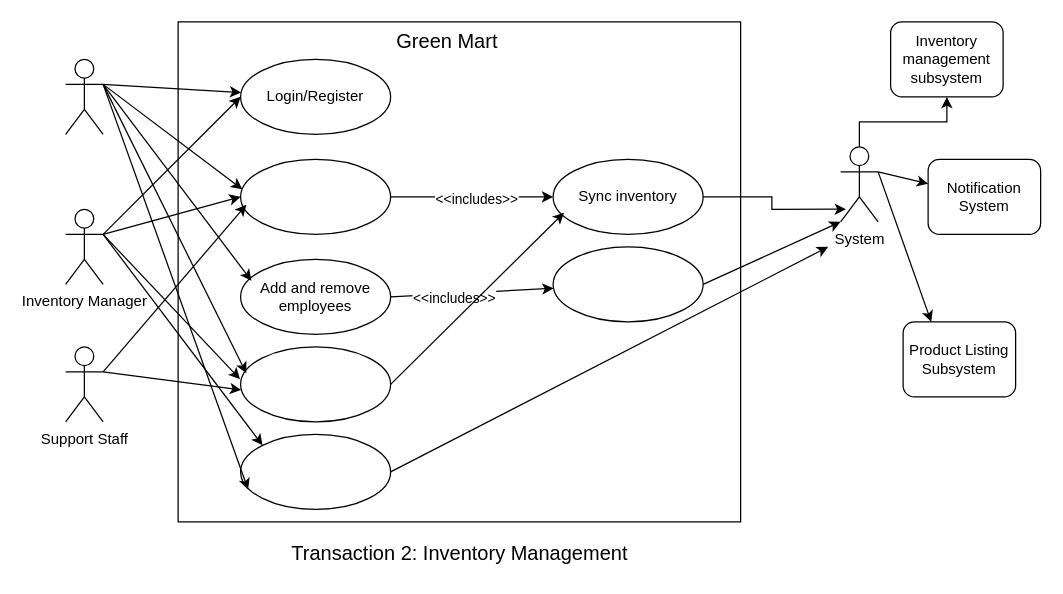
The diagram is 1063 pixels wide and 594 high, and some of its shapes have lost their labels. Each missing label, with the centre of its shape:
Add and manage products: the point at 315,196
Admin: the point at 83,96
Employee permissions: the point at 627,284
Sales: the point at 315,471
View statistics: the point at 315,384
